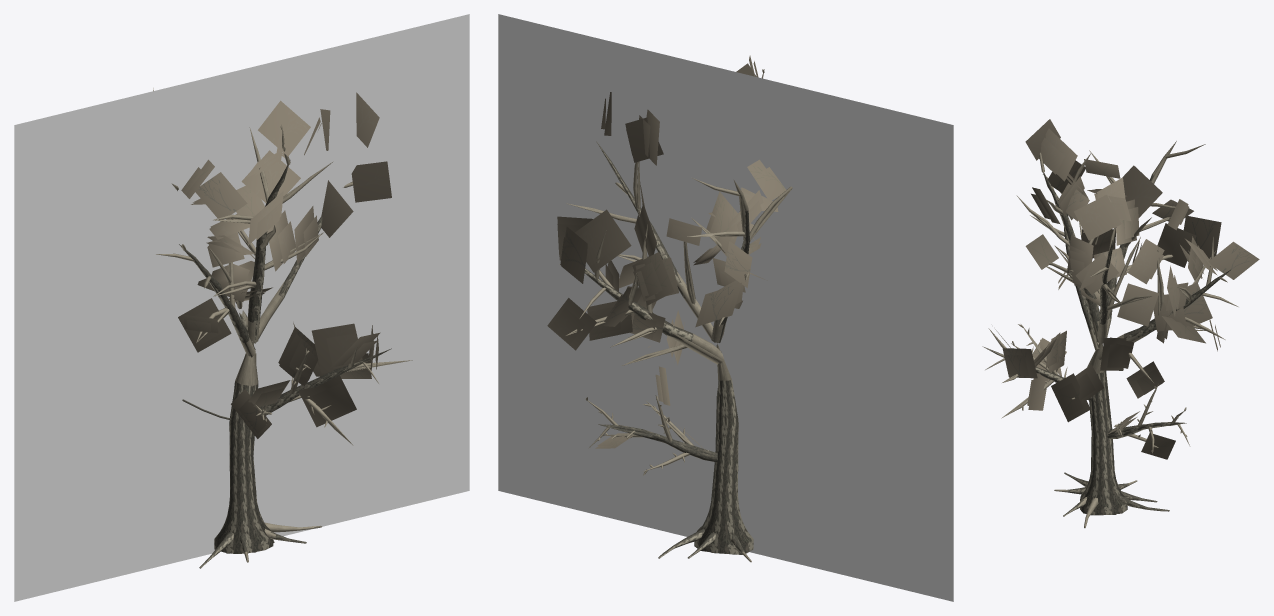
File: mort_adulte_c.fbx
3 views of the same model, side by side, from view 1: azimuth 30°, elevation 25°; view 2: azimuth 150°, elevation 25°; view 3: azimuth 270°, elevation 25° (orthographic). The views are drawn at different scales.
Parts seen in each view (by area): view 1: mort_adulte_c_LOD3, mort_adulte_c_LOD1, mort_adulte_c_LOD2; view 2: mort_adulte_c_LOD3, mort_adulte_c_LOD2, mort_adulte_c_LOD1; view 3: mort_adulte_c_LOD2, mort_adulte_c_LOD1.
Part boxes in pixels (<box>): mort_adulte_c_LOD3: <box>14,14,469,601</box>; mort_adulte_c_LOD1: <box>153,88,409,568</box>; mort_adulte_c_LOD2: <box>161,92,412,568</box>; mort_adulte_c_LOD3: <box>498,14,953,601</box>; mort_adulte_c_LOD2: <box>547,55,792,561</box>; mort_adulte_c_LOD1: <box>550,61,792,562</box>; mort_adulte_c_LOD2: <box>987,119,1259,527</box>; mort_adulte_c_LOD1: <box>982,137,1255,528</box>.
Size of what is drawn, in the model's own units: 15.85 by 15.85 by 9.94.
